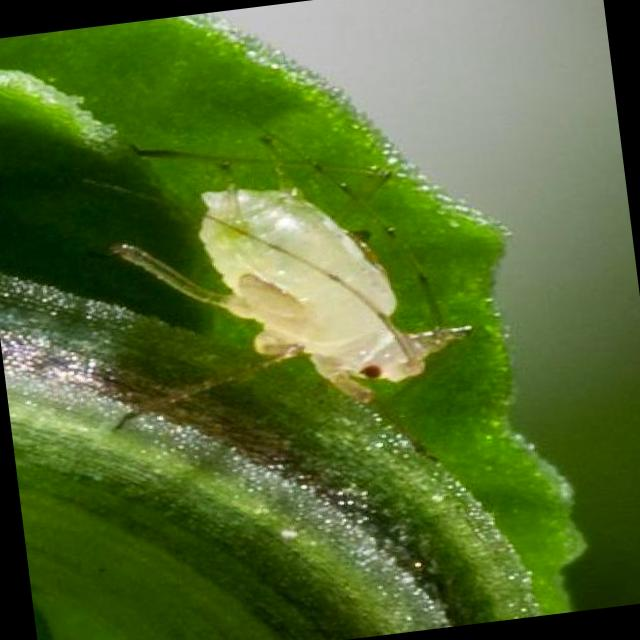aphid: (77, 72, 501, 476)
